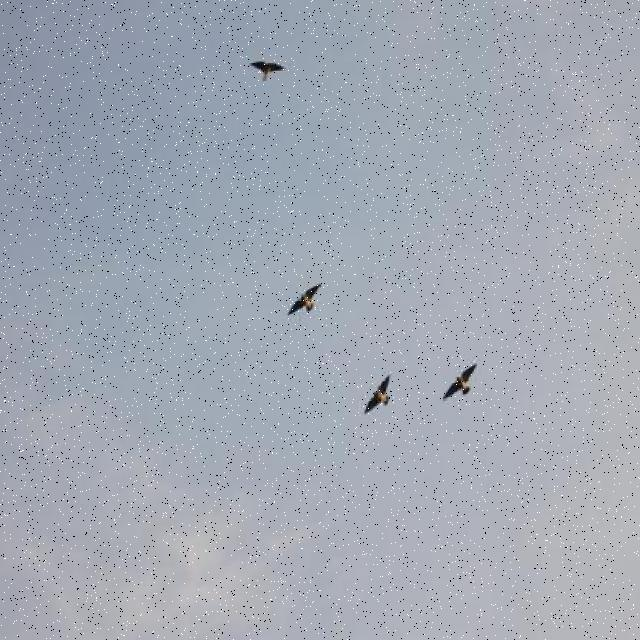bird: (442, 363, 478, 400), (287, 284, 321, 316), (364, 374, 390, 414), (249, 61, 285, 81)
